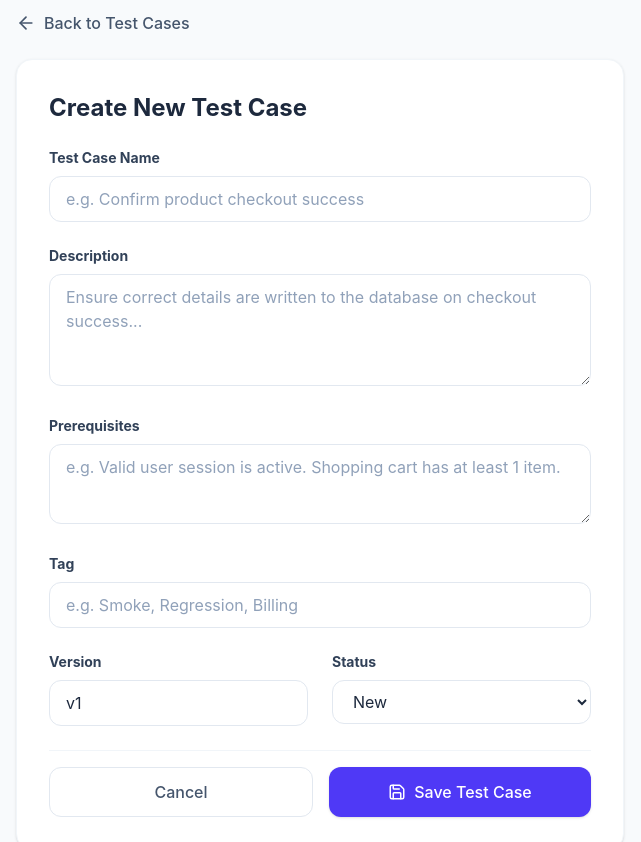
Test: AddTestCase Component Spec › displays error message if first stage post fails
The width and height of the screenshot is (641, 842).
Type "Duplicate Check" into the field labelled "Test Case Name".
click(320, 199); type("Duplicate Check")  # box [49,176,591,222]
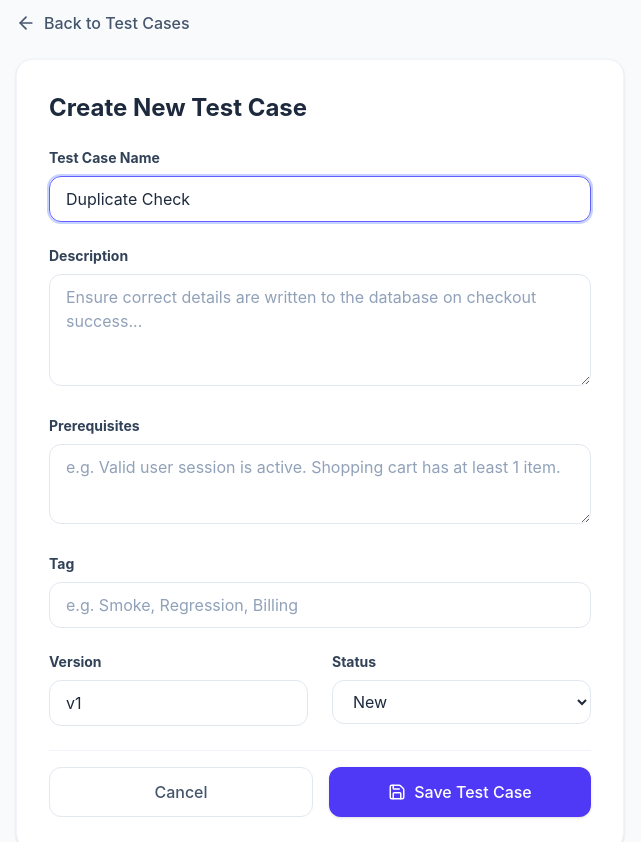
Click the button "Save Test Case".
click(460, 792)  # box [329,767,591,817]
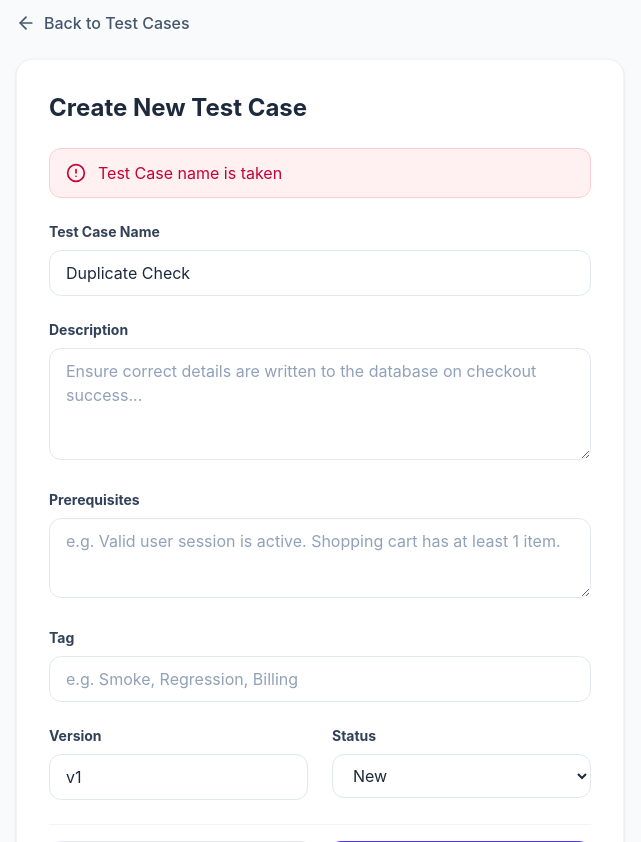
Check: the text "Test Case name is taken" is shown, box [49,148,591,198]
